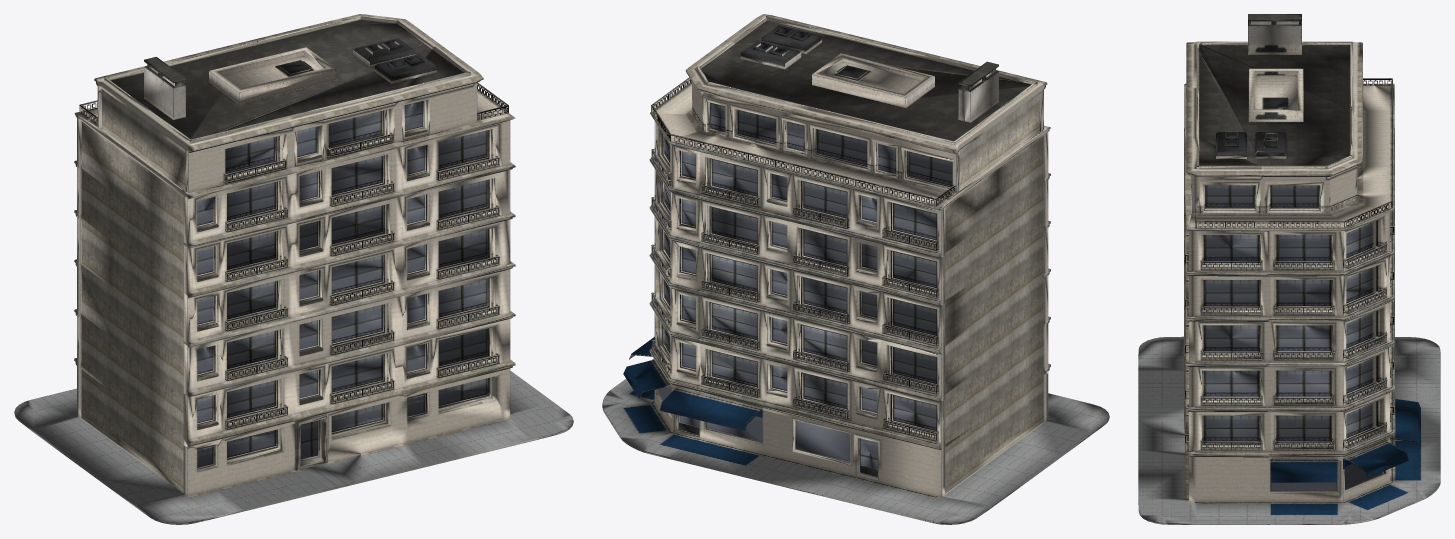
Rendered from bld22_02.glb.
3 views of the same model, side by side, from view 1: azimuth 30°, elevation 25°; view 2: azimuth 150°, elevation 25°; view 3: azimuth 270°, elevation 25° (orthographic). The views are drawn at different scales.
Parts seen in each view (by area): view 1: bld22_02; view 2: bld22_02; view 3: bld22_02.
Boxes of the visible parts, x1,y1,x2,y2 form: bld22_02: (14, 14, 573, 524); bld22_02: (602, 14, 1109, 524); bld22_02: (1138, 14, 1440, 524).
Bounding box in the file's own units: 47.44 × 42.02 × 32.52.
Materials: 1 (1 with a texture image).
